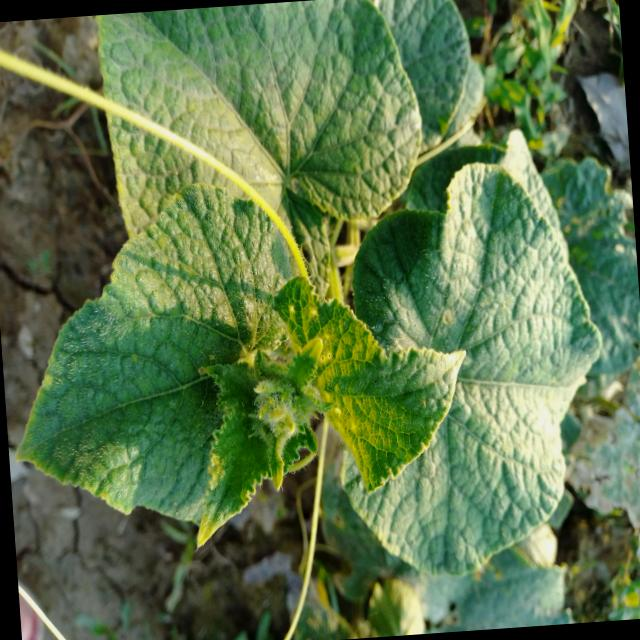cucumber_healthy: (314, 118, 622, 590), (0, 170, 318, 543), (175, 257, 480, 550), (87, 0, 432, 249)
